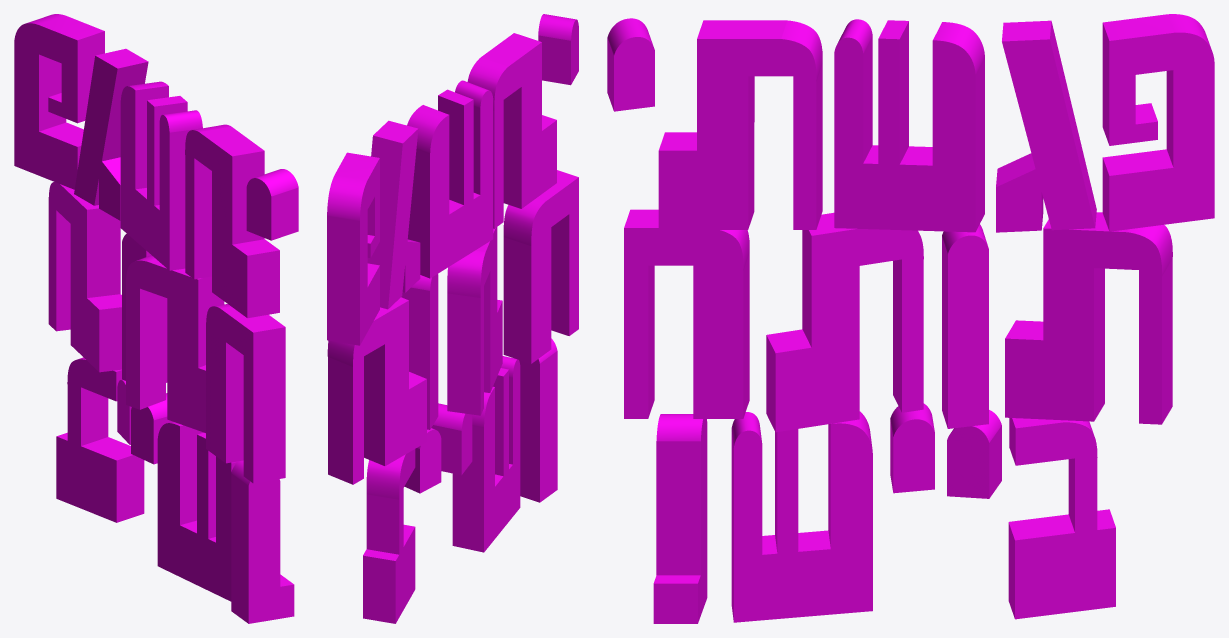
Rendered from 6_title.gltf.
3 views of the same model, side by side, from view 1: azimuth 30°, elevation 25°; view 2: azimuth 150°, elevation 25°; view 3: azimuth 270°, elevation 25° (orthographic). The views are drawn at different scales.
Parts seen in each view (by area): view 1: Cap 1 (×13), ח, ן סופפית.2, ת.2, ת.1, ש.1, פ, ת, ב, ש, י (×2), ג; view 2: Cap 1 (×13), ח, פ, ת, ש.1, ת.1, ב, ן סופפית.2, ש, ת.2, י (×3), ג (+1 smaller); view 3: Cap 2 (×13), ן סופפית.2, ש.1, פ, ת.2, ת.1, ת, ב, י (×3), ח, ג, ש (+1 smaller).
Part boxes in pixels (x1,y1,x2,y2): Cap 1 (×13): [14, 23, 271, 601]; ח: [214, 304, 285, 483]; ן סופפית.2: [231, 460, 294, 623]; ת.2: [194, 124, 279, 318]; ת.1: [56, 184, 121, 372]; ש.1: [128, 81, 202, 270]; פ: [26, 14, 104, 168]; ת: [136, 255, 224, 409]; ב: [57, 357, 144, 522]; ש: [167, 421, 237, 542]; י (×2): [148, 169, 298, 464]; ג: [94, 48, 148, 220]; Cap 1 (×13): [353, 19, 578, 623]; ח: [503, 170, 578, 363]; פ: [327, 152, 379, 345]; ת: [447, 228, 502, 415]; ש.1: [407, 80, 488, 278]; ת.1: [327, 297, 426, 484]; ב: [363, 454, 414, 623]; ן סופפית.2: [519, 338, 557, 502]; ש: [452, 356, 516, 552]; ת.2: [467, 33, 556, 228]; י (×3): [404, 14, 575, 493]; ג: [367, 120, 419, 309]; Cap 2 (×13): [614, 32, 1214, 622]; ן סופפית.2: [653, 414, 707, 623]; ש.1: [838, 19, 984, 231]; פ: [1102, 14, 1211, 230]; ת.2: [659, 20, 822, 229]; ת.1: [1005, 212, 1172, 423]; ת: [766, 212, 918, 431]; ב: [1008, 418, 1115, 618]; י (×3): [607, 18, 1001, 498]; ח: [624, 209, 749, 418]; ג: [996, 20, 1096, 229]; ש: [731, 411, 872, 622].
Size of the model in its own units: 439 by 2874 by 2738.
